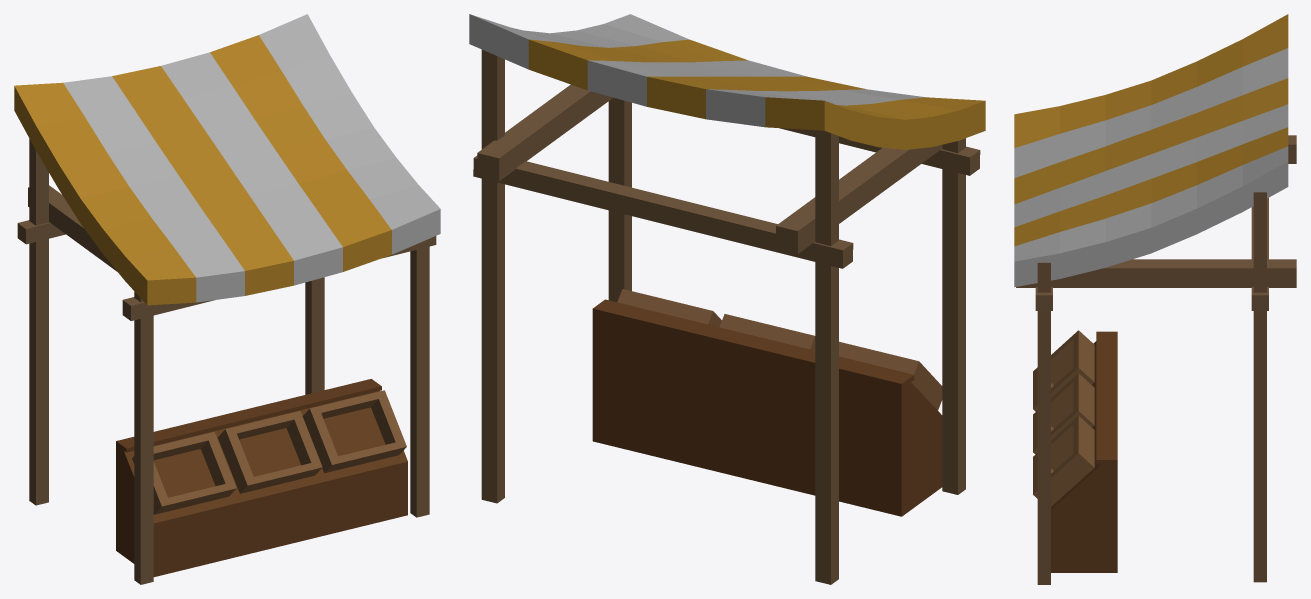
File: market_stand.fbx
3 renders of one model, left to right at view 1: azimuth 30°, elevation 25°; view 2: azimuth 150°, elevation 25°; view 3: azimuth 270°, elevation 25°, orthographic. The views are drawn at different scales.
Parts seen in each view (by area): view 1: Plane.001, Cube.015, Cube.013, Cube.008, Cube.007, Cube.017, Cube.016, Cube.018, Cube.012, Cube.010, Cube.011, Cube.014; view 2: Cube.015, Plane.001, Cube.013, Cube.012, Cube.014, Cube.008, Cube.009, Cube.010, Cube.007, Cube.018, Cube.016, Cube.011 (+1 smaller); view 3: Plane.001, Cube.015, Cube.009, Cube.012, Cube.007, Cube.016, Cube.018, Cube.017, Cube.014.
Boxes of the visible parts, x1,y1,x2,y2 form: Plane.001: [14, 14, 440, 305]; Cube.015: [116, 379, 407, 576]; Cube.013: [29, 139, 48, 505]; Cube.008: [134, 291, 153, 584]; Cube.007: [410, 246, 429, 517]; Cube.017: [217, 411, 322, 493]; Cube.016: [302, 390, 406, 473]; Cube.018: [132, 432, 236, 514]; Cube.012: [305, 277, 324, 394]; Cube.010: [28, 185, 165, 304]; Cube.011: [122, 236, 436, 320]; Cube.014: [17, 220, 65, 244]; Cube.015: [592, 299, 942, 516]; Plane.001: [469, 14, 985, 149]; Cube.013: [815, 130, 838, 584]; Cube.012: [481, 49, 504, 503]; Cube.014: [473, 155, 853, 268]; Cube.008: [942, 138, 965, 494]; Cube.009: [477, 84, 612, 181]; Cube.010: [776, 145, 942, 254]; Cube.007: [608, 97, 631, 302]; Cube.018: [839, 341, 942, 410]; Cube.016: [617, 289, 721, 326]; Cube.011: [780, 128, 980, 175]; Plane.001: [1014, 14, 1288, 287]; Cube.015: [1051, 331, 1117, 572]; Cube.009: [1016, 259, 1296, 287]; Cube.012: [1253, 192, 1266, 582]; Cube.007: [1037, 262, 1050, 584]; Cube.016: [1033, 415, 1094, 506]; Cube.018: [1033, 330, 1094, 411]; Cube.017: [1033, 373, 1094, 454]; Cube.014: [1251, 198, 1268, 310].
Size of the model in its own units: 285 by 368 by 222.
